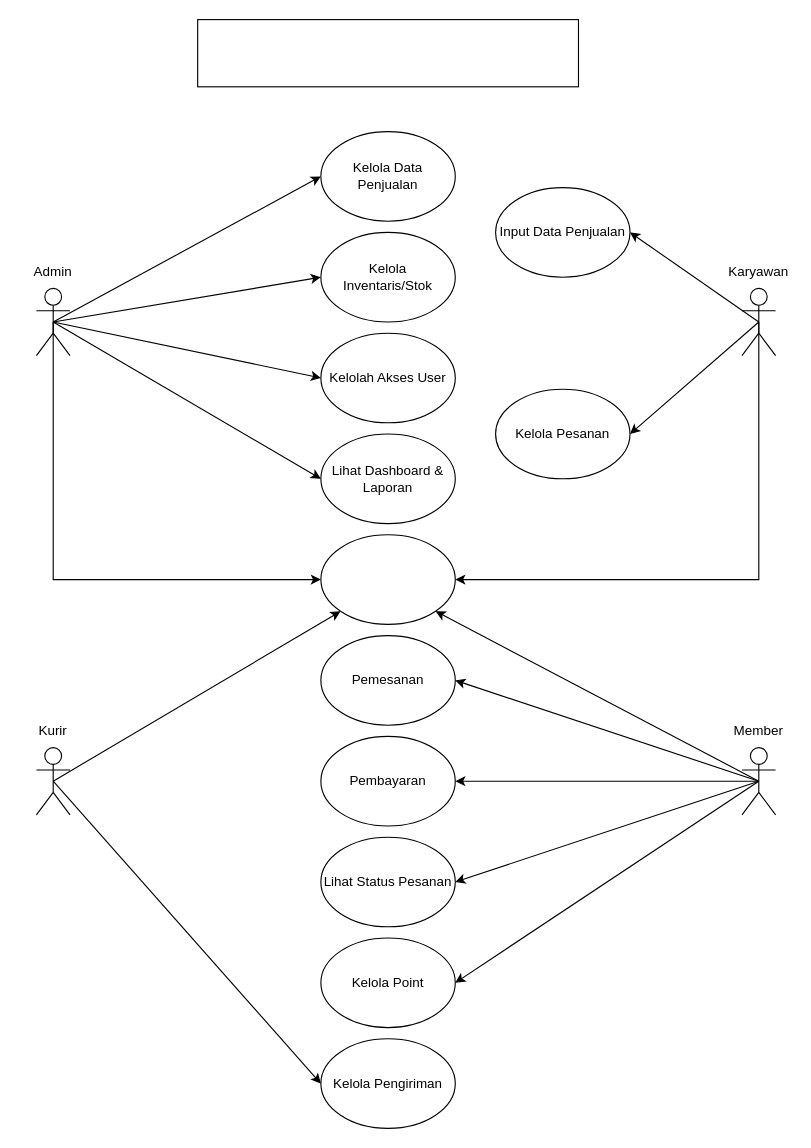
Some shapes in this 811 by 1148 pixel diagram are drawn without their labels. The centre of each missing label's shape, as x and y in pixels:
"Login" belongs at [387,579].
"USE CASE DIAGRAM SYSTEM" belongs at [387,52].
